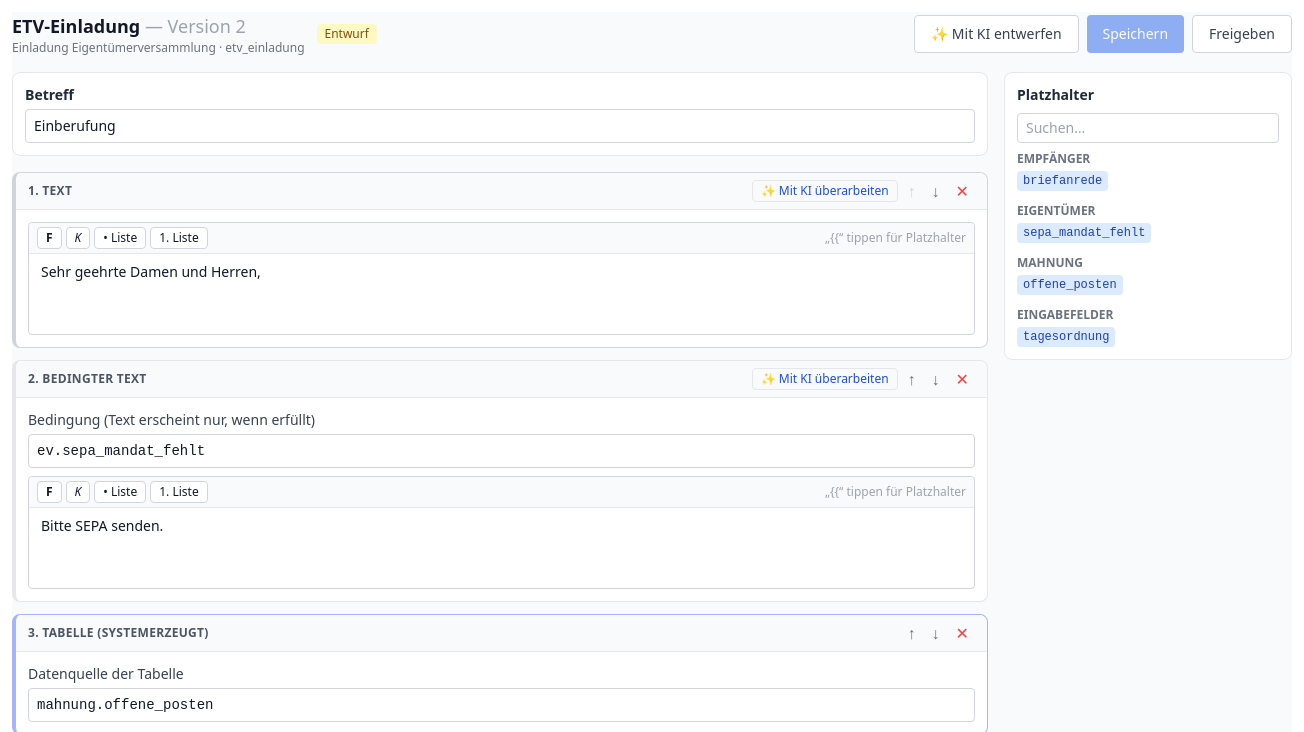
Test: VorlagenEditor — Platzhalter › fügt einen Chip per Klick in den Betreff ein
The width and height of the screenshot is (1304, 732).
Click the field showing "Einberufung": (500, 126) 25,109 -> 975,143
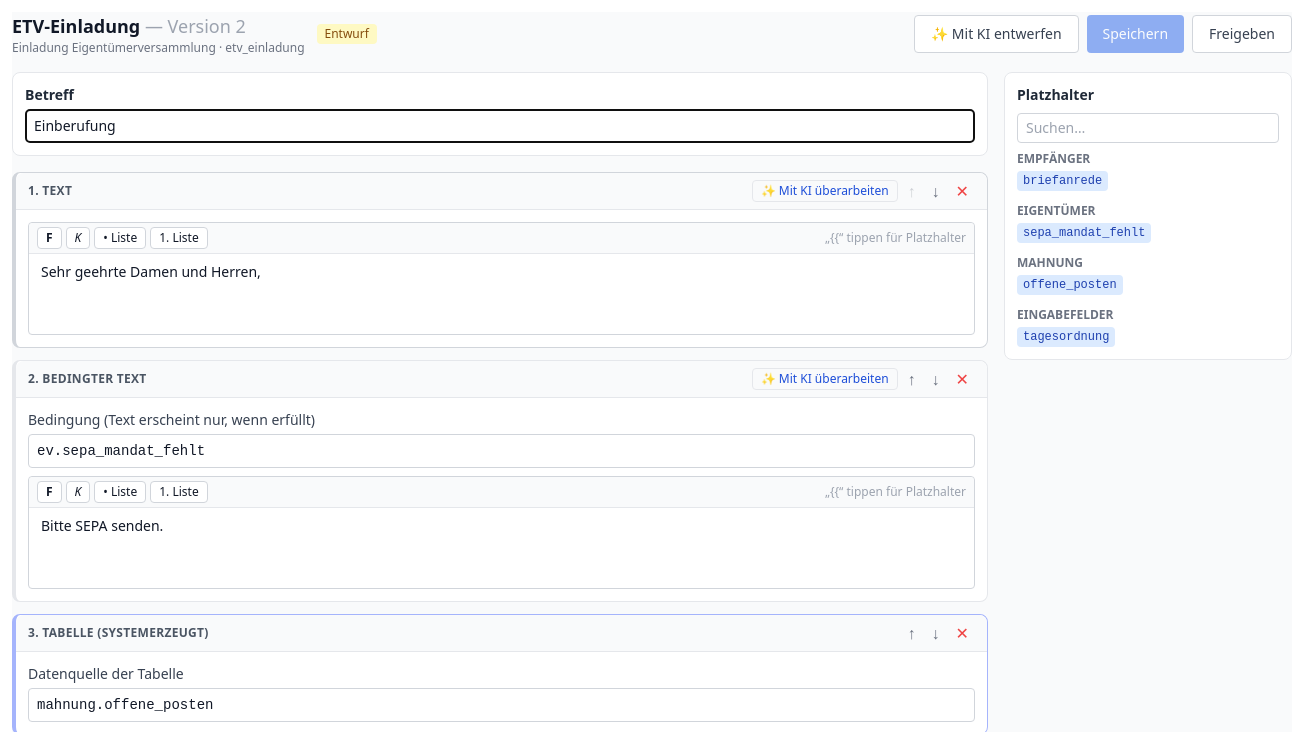
Click the button "briefanrede": (1063, 181) 1017,171 -> 1108,191
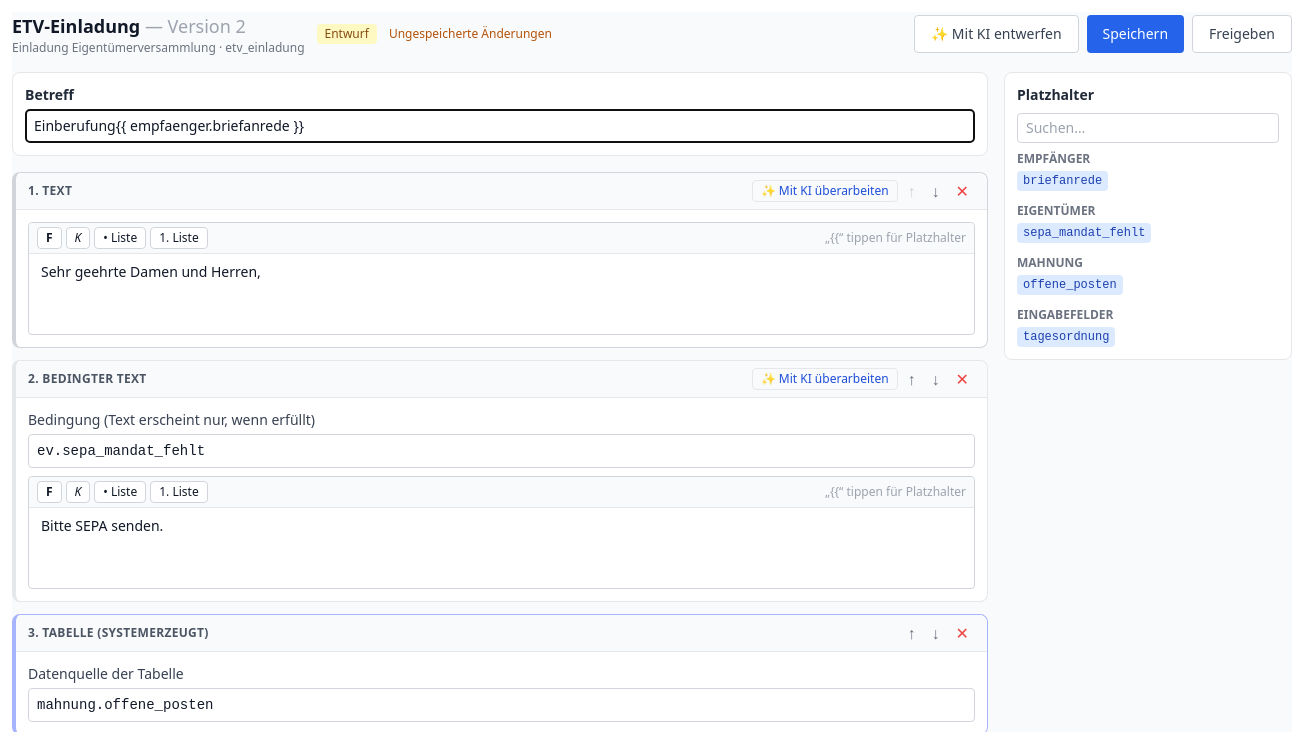
Expected: the field showing "Einberufung" holds "Einberufung{{ empfaenger.briefanrede }}", 25,109 -> 975,143
Expected: the button "Speichern" is enabled, 1086,15 -> 1184,53
